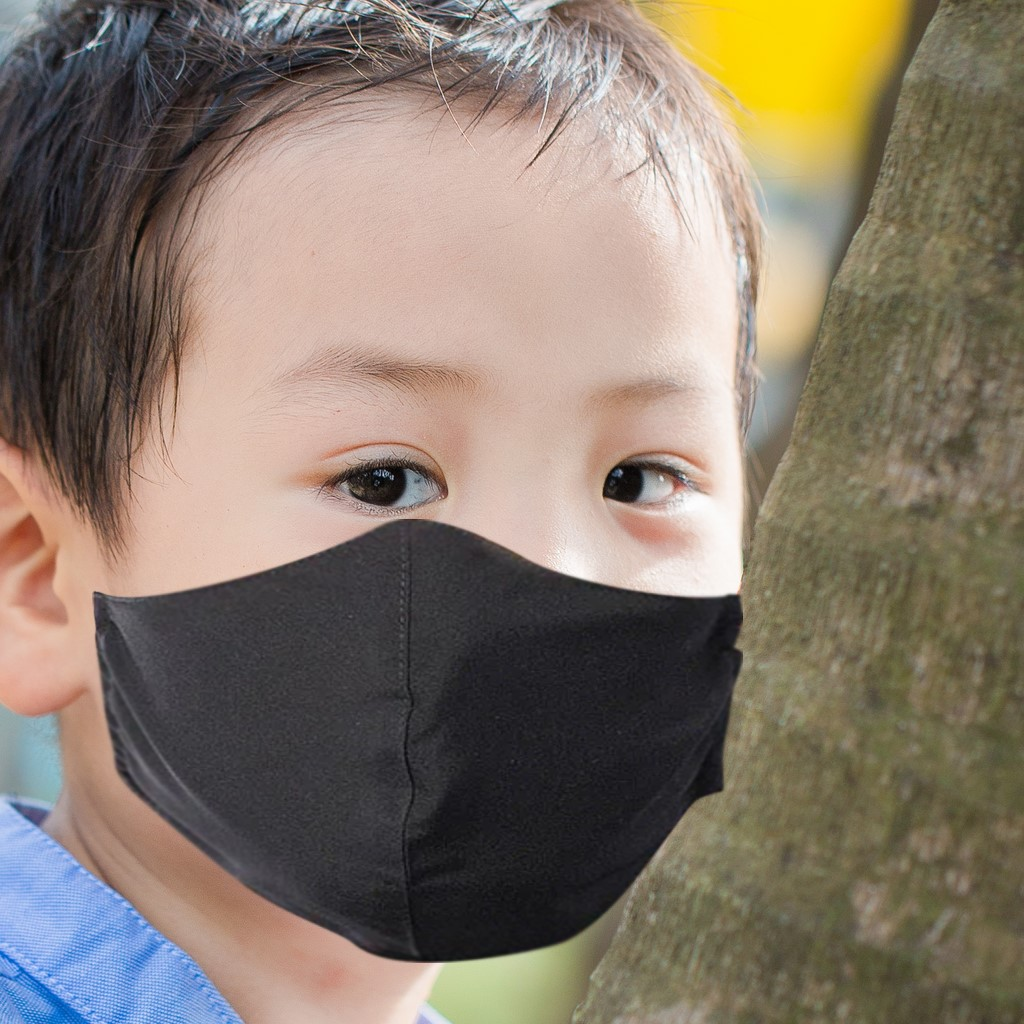con_mascara: (104, 101, 752, 937)
